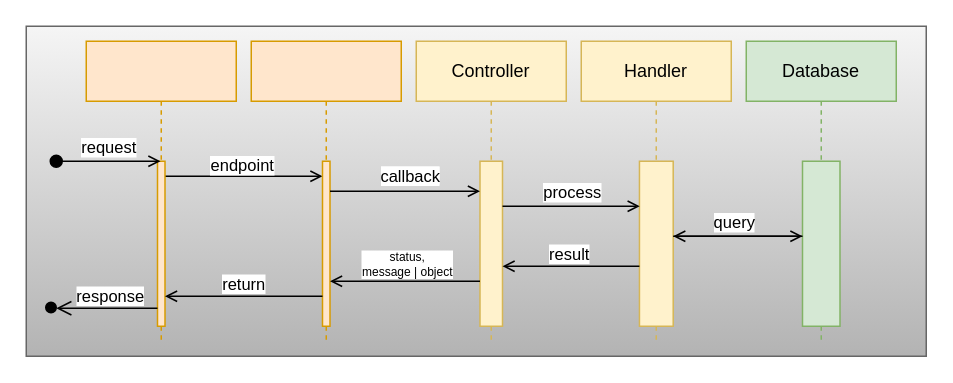
The diagram is 953 pixels wide and 383 high, and some of its shapes have lost their labels. The shapes that lost their labels are listed below. From the top down, each one's centre as x and y in pixels, then its label:
At (x=160, y=190): "Server".
At (x=325, y=190): "Route".
